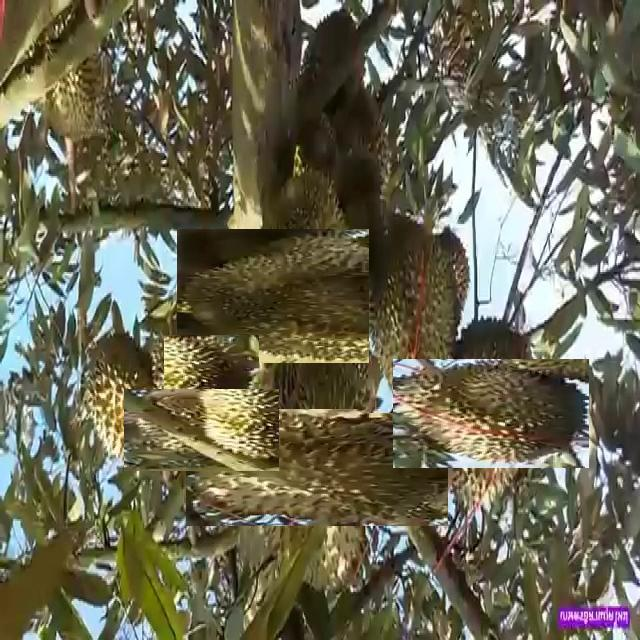durian: (209, 195, 411, 397), (222, 373, 412, 563), (415, 337, 567, 491), (369, 225, 462, 413), (142, 371, 261, 490), (137, 321, 246, 431), (82, 330, 164, 462), (36, 2, 106, 146)
